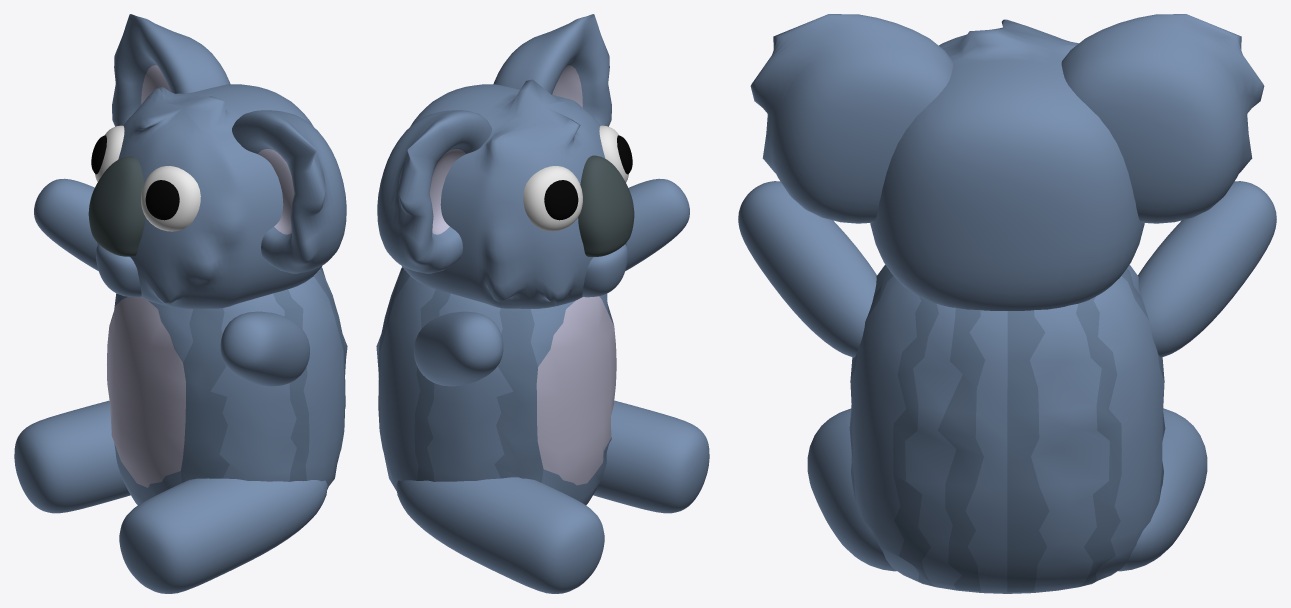
Rendered from Koala_3.fbx.
The picture shows the model from 3 angles, left to right: view 1: azimuth 30°, elevation 25°; view 2: azimuth 150°, elevation 25°; view 3: azimuth 270°, elevation 25°; orthographic projection. The views are drawn at different scales.
Visible parts, largest first — view 1: Cube.057; view 2: Cube.057; view 3: Cube.057.
Boxes of the visible parts, left/top/right/bottom form: Cube.057: left=14, top=14, right=347, bottom=593; Cube.057: left=376, top=14, right=709, bottom=593; Cube.057: left=738, top=14, right=1276, bottom=593.
Size of the model in its own units: 923 by 1599 by 1378.
